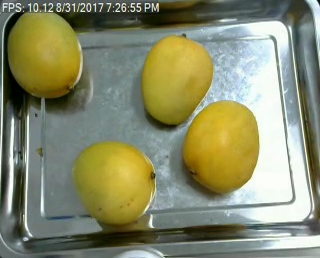Mango: (183, 98, 262, 191), (71, 140, 157, 225), (139, 32, 216, 125), (7, 8, 84, 100)
